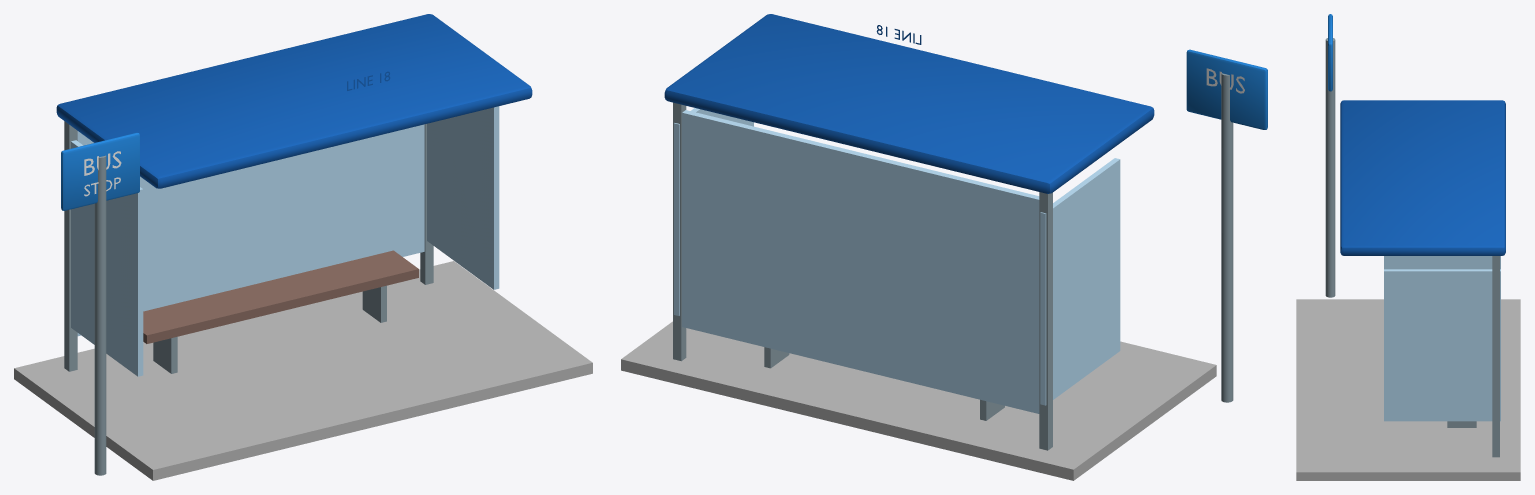
The model's file is rides_busstop.glb.
The picture shows the model from 3 angles, left to right: view 1: azimuth 30°, elevation 25°; view 2: azimuth 150°, elevation 25°; view 3: azimuth 270°, elevation 25°; orthographic projection. The views are drawn at different scales.
Parts seen in each view (by area): view 1: RidesBusStop_body; view 2: RidesBusStop_body; view 3: RidesBusStop_body.
Boxes of the visible parts, x1,y1,x2,y2 form: RidesBusStop_body: (14, 14, 592, 480); RidesBusStop_body: (621, 14, 1267, 480); RidesBusStop_body: (1296, 14, 1520, 480).
Bounding box in the file's own units: 4.88 × 3.03 × 2.3.
